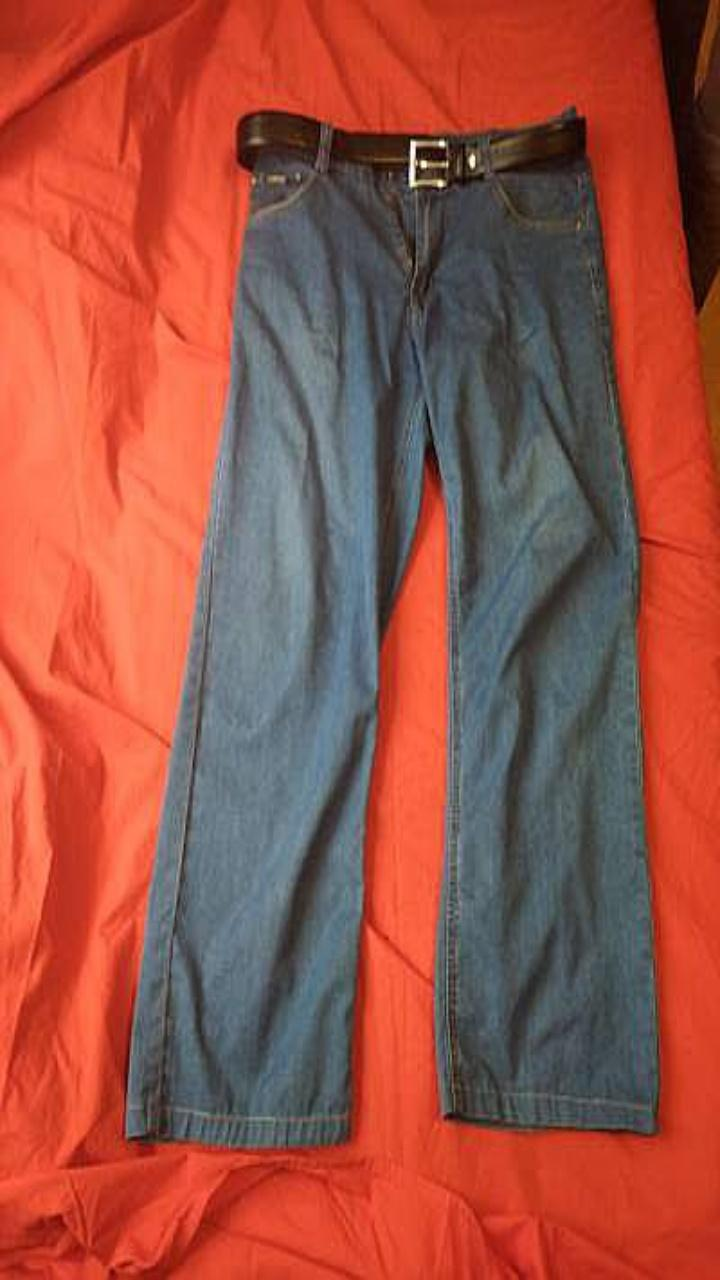Jeans: (125, 123, 657, 1146)
